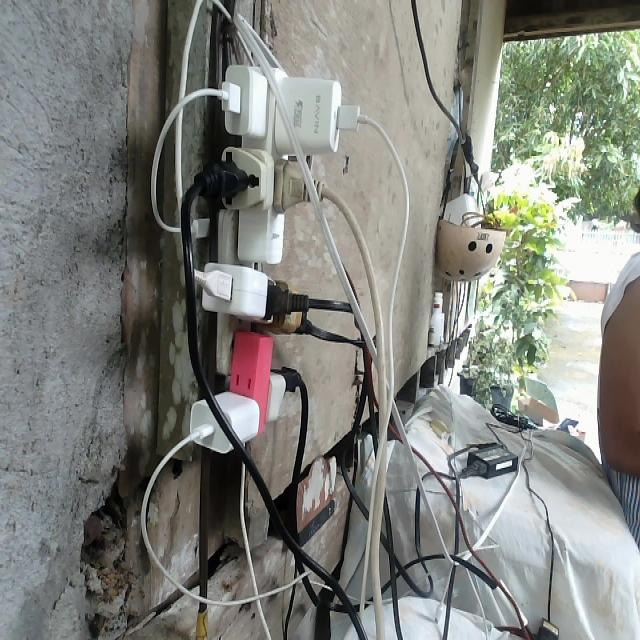-: (187, 63, 363, 456)
